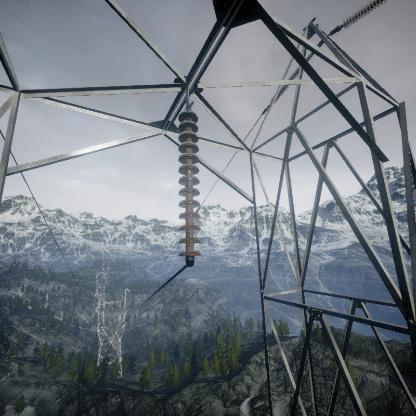insulator: (176, 109, 201, 265), (340, 0, 386, 29)
tower: (95, 286, 132, 381)
